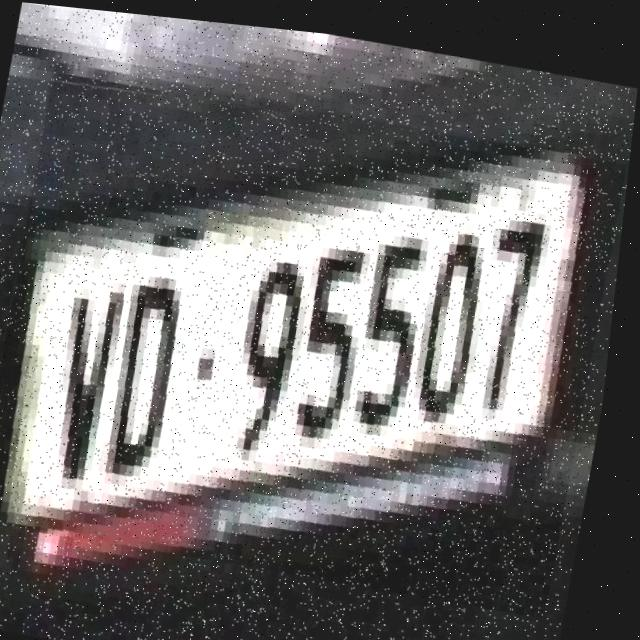LicensePlate: (0, 61, 632, 607)
